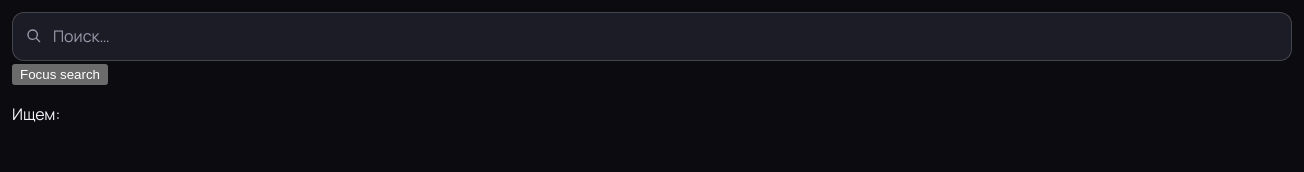
Test case: SearchInput (forwardRef) › сообщает введённый текст строкой
Type "Дюна" into the search field at (652, 36), box [12,12,1292,61]
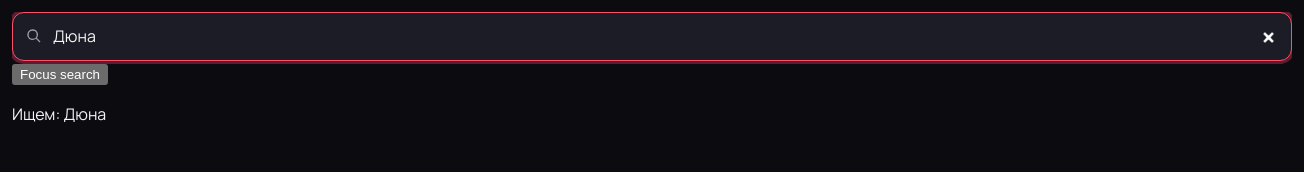
Now the text "Ищем: Дюна" is shown, box [12,103,106,125]
